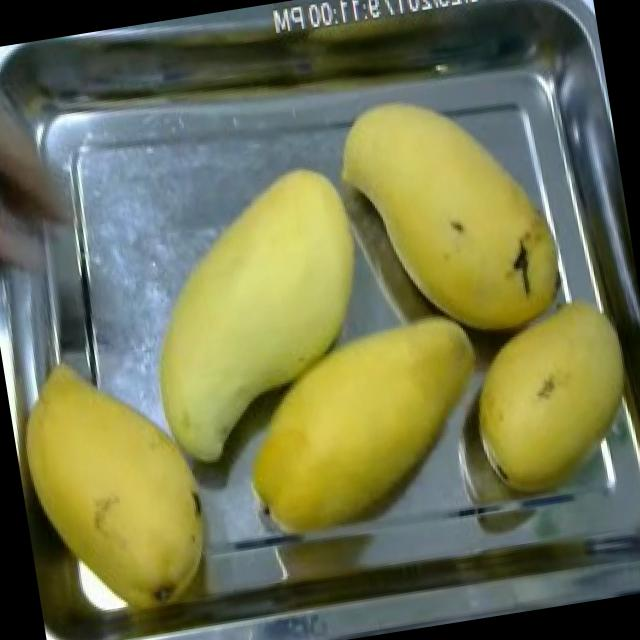fruit: (112, 141, 404, 478), (219, 294, 516, 552), (340, 72, 576, 366), (3, 338, 232, 637), (447, 289, 640, 516)
